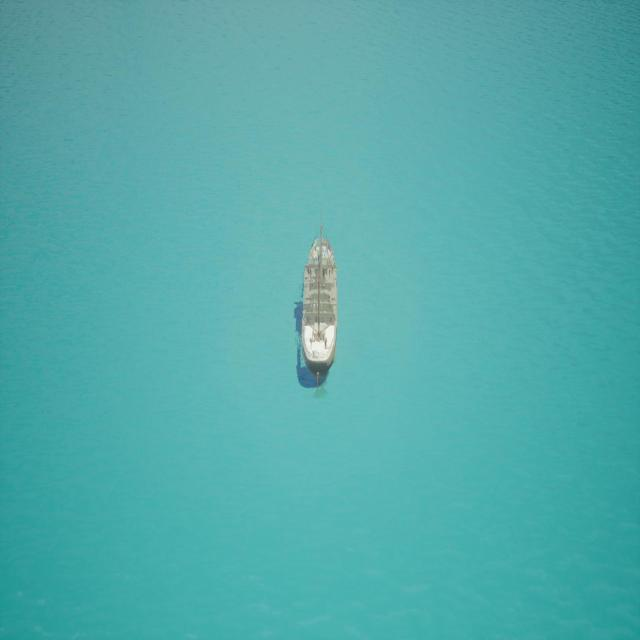fishing ship: (296, 231, 341, 389)
